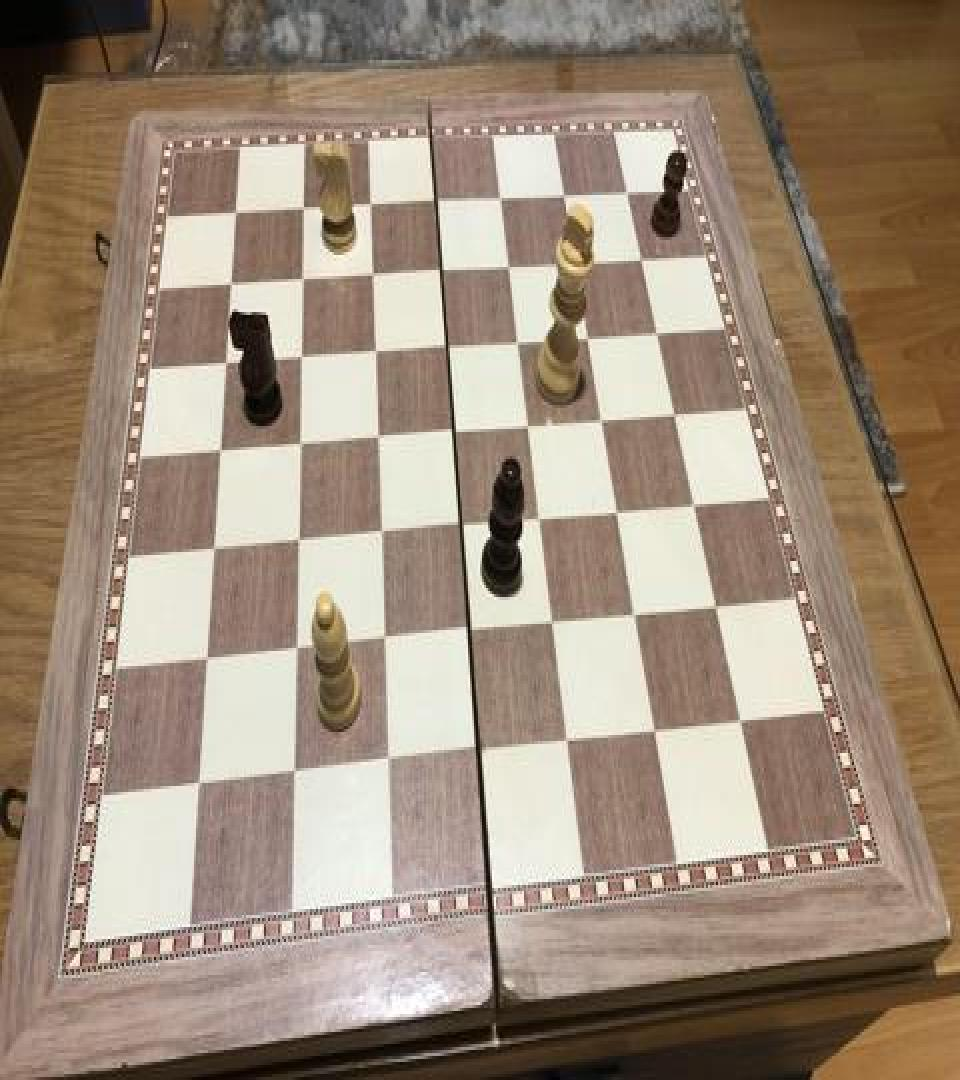xcorner: (552, 727, 576, 764), (372, 748, 396, 785), (186, 769, 210, 806), (615, 174, 639, 210), (552, 178, 576, 214), (488, 182, 512, 218), (424, 186, 448, 222), (358, 190, 382, 226), (292, 194, 316, 230), (225, 198, 249, 234), (629, 242, 653, 278), (563, 246, 587, 282), (496, 250, 520, 286), (429, 255, 453, 291), (291, 266, 315, 302), (220, 270, 244, 306), (645, 316, 669, 352), (576, 321, 600, 357), (505, 327, 529, 363), (434, 332, 458, 368), (362, 338, 386, 374), (215, 348, 239, 384), (662, 398, 686, 434), (589, 404, 613, 440), (515, 411, 539, 447), (440, 417, 464, 453), (364, 423, 388, 459), (287, 429, 311, 465), (209, 436, 233, 472), (681, 489, 705, 525), (604, 496, 628, 532), (526, 504, 550, 540), (447, 512, 471, 548), (367, 519, 391, 555), (285, 526, 309, 562), (202, 534, 226, 570), (703, 592, 727, 628), (621, 600, 645, 636), (539, 609, 563, 645), (455, 618, 479, 654), (369, 627, 393, 663), (282, 636, 306, 672), (194, 645, 218, 681), (727, 708, 751, 744), (640, 717, 664, 753), (463, 738, 487, 774), (280, 759, 304, 795), (360, 260, 384, 295), (289, 344, 313, 379)
